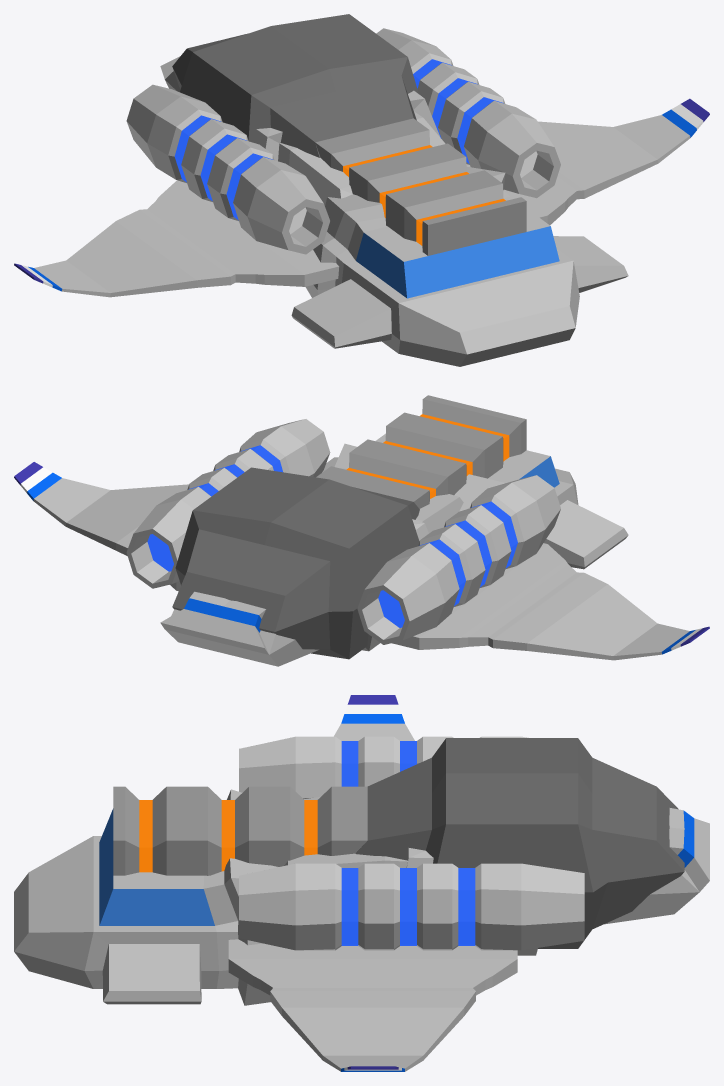
The model's file is NaveHeroeTest.glb.
The picture shows the model from 3 angles, top to bottom: view 1: azimuth 30°, elevation 25°; view 2: azimuth 150°, elevation 25°; view 3: azimuth 270°, elevation 25°; orthographic projection. The views are drawn at different scales.
Parts seen in each view (by area): view 1: Cube; view 2: Cube; view 3: Cube.
Boxes of the visible parts, x1,y1,x2,y2 form: Cube: (14,14,709,366); Cube: (14,395,709,666); Cube: (14,695,709,1071).
Size of the model in its own units: 9.25 by 2.15 by 7.32.
